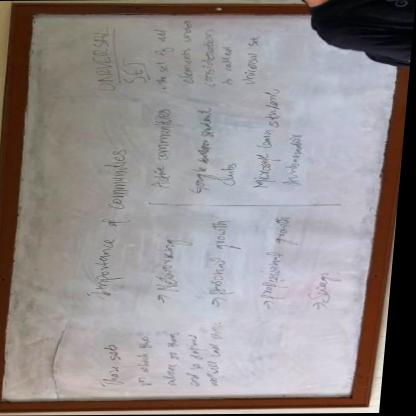Handwritten text: (84, 141, 142, 301), (259, 214, 306, 300), (201, 216, 248, 299), (252, 85, 288, 191), (183, 102, 223, 195), (143, 106, 183, 188), (151, 235, 199, 292), (84, 24, 120, 99), (94, 333, 138, 388), (281, 128, 316, 188), (148, 24, 177, 87), (163, 329, 193, 387), (305, 268, 353, 304), (175, 18, 200, 86), (188, 330, 214, 390), (194, 26, 219, 88), (136, 331, 162, 389), (239, 32, 263, 87), (119, 55, 149, 86), (216, 43, 237, 86), (218, 159, 245, 187)
Whiteboard: (3, 9, 402, 405)
